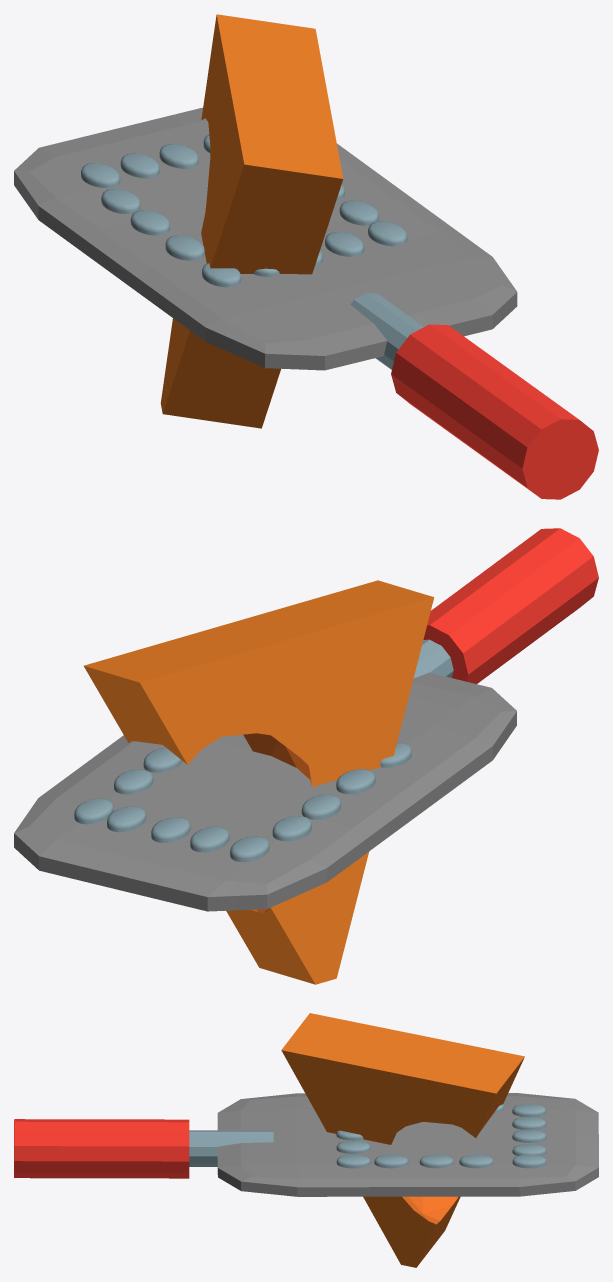
Rendered from cheez  grater.fbx.
The picture shows the model from 3 angles, top to bottom: view 1: azimuth 30°, elevation 25°; view 2: azimuth 150°, elevation 25°; view 3: azimuth 270°, elevation 25°; orthographic projection. The views are drawn at different scales.
Parts seen in each view (by area): view 1: Cylinder.030, Cube.017; view 2: Cylinder.030, Cube.017; view 3: Cylinder.030, Cube.017.
Part boxes in pixels (left/top/right/bottom): Cylinder.030: left=14, top=107, right=598, bottom=499; Cube.017: left=160, top=14, right=343, bottom=428; Cylinder.030: left=14, top=528, right=598, bottom=911; Cube.017: left=84, top=580, right=434, bottom=984; Cylinder.030: left=14, top=1093, right=598, bottom=1196; Cube.017: left=281, top=1013, right=524, bottom=1267.
Bounding box in the file's own units: 129 × 144 × 340.
2 materials, 2 textured.
